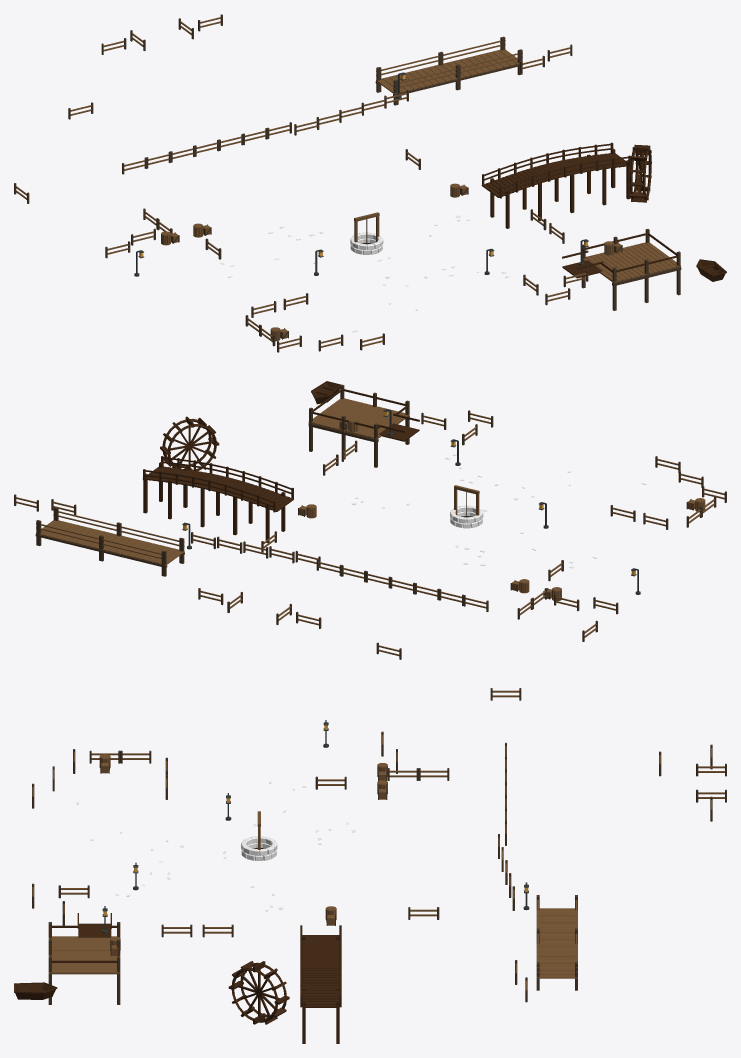
File: props.glb
3 renders of one model, top to bottom at view 1: azimuth 30°, elevation 25°; view 2: azimuth 150°, elevation 25°; view 3: azimuth 270°, elevation 25°, orthographic. The views are drawn at different scales.
Parts seen in each view (by area): view 1: UpstreamBridge, LakesideDock, CentralWell; view 2: UpstreamBridge, LakesideDock, CentralWell; view 3: UpstreamBridge, LakesideDock, CentralWell.
Boxes of the visible parts, bbox=[...] form: UpstreamBridge: bbox=[375, 36, 522, 105]; LakesideDock: bbox=[581, 229, 681, 310]; CentralWell: bbox=[350, 212, 383, 254]; UpstreamBridge: bbox=[35, 507, 184, 576]; LakesideDock: bbox=[308, 384, 409, 467]; CentralWell: bbox=[450, 485, 483, 528]; UpstreamBridge: bbox=[536, 895, 577, 990]; LakesideDock: bbox=[48, 922, 120, 1004]; CentralWell: bbox=[241, 811, 277, 860].
Size of the model in its own units: 69.61 by 12.25 by 69.36.
